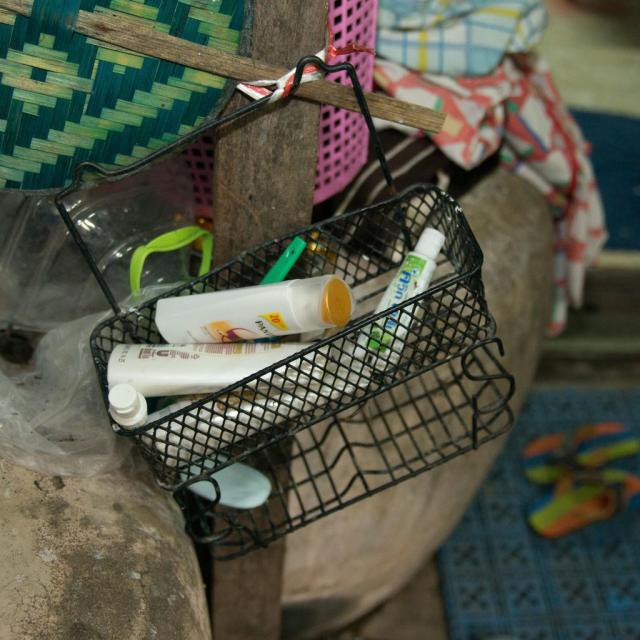Toothpaste: (349, 224, 448, 377)
